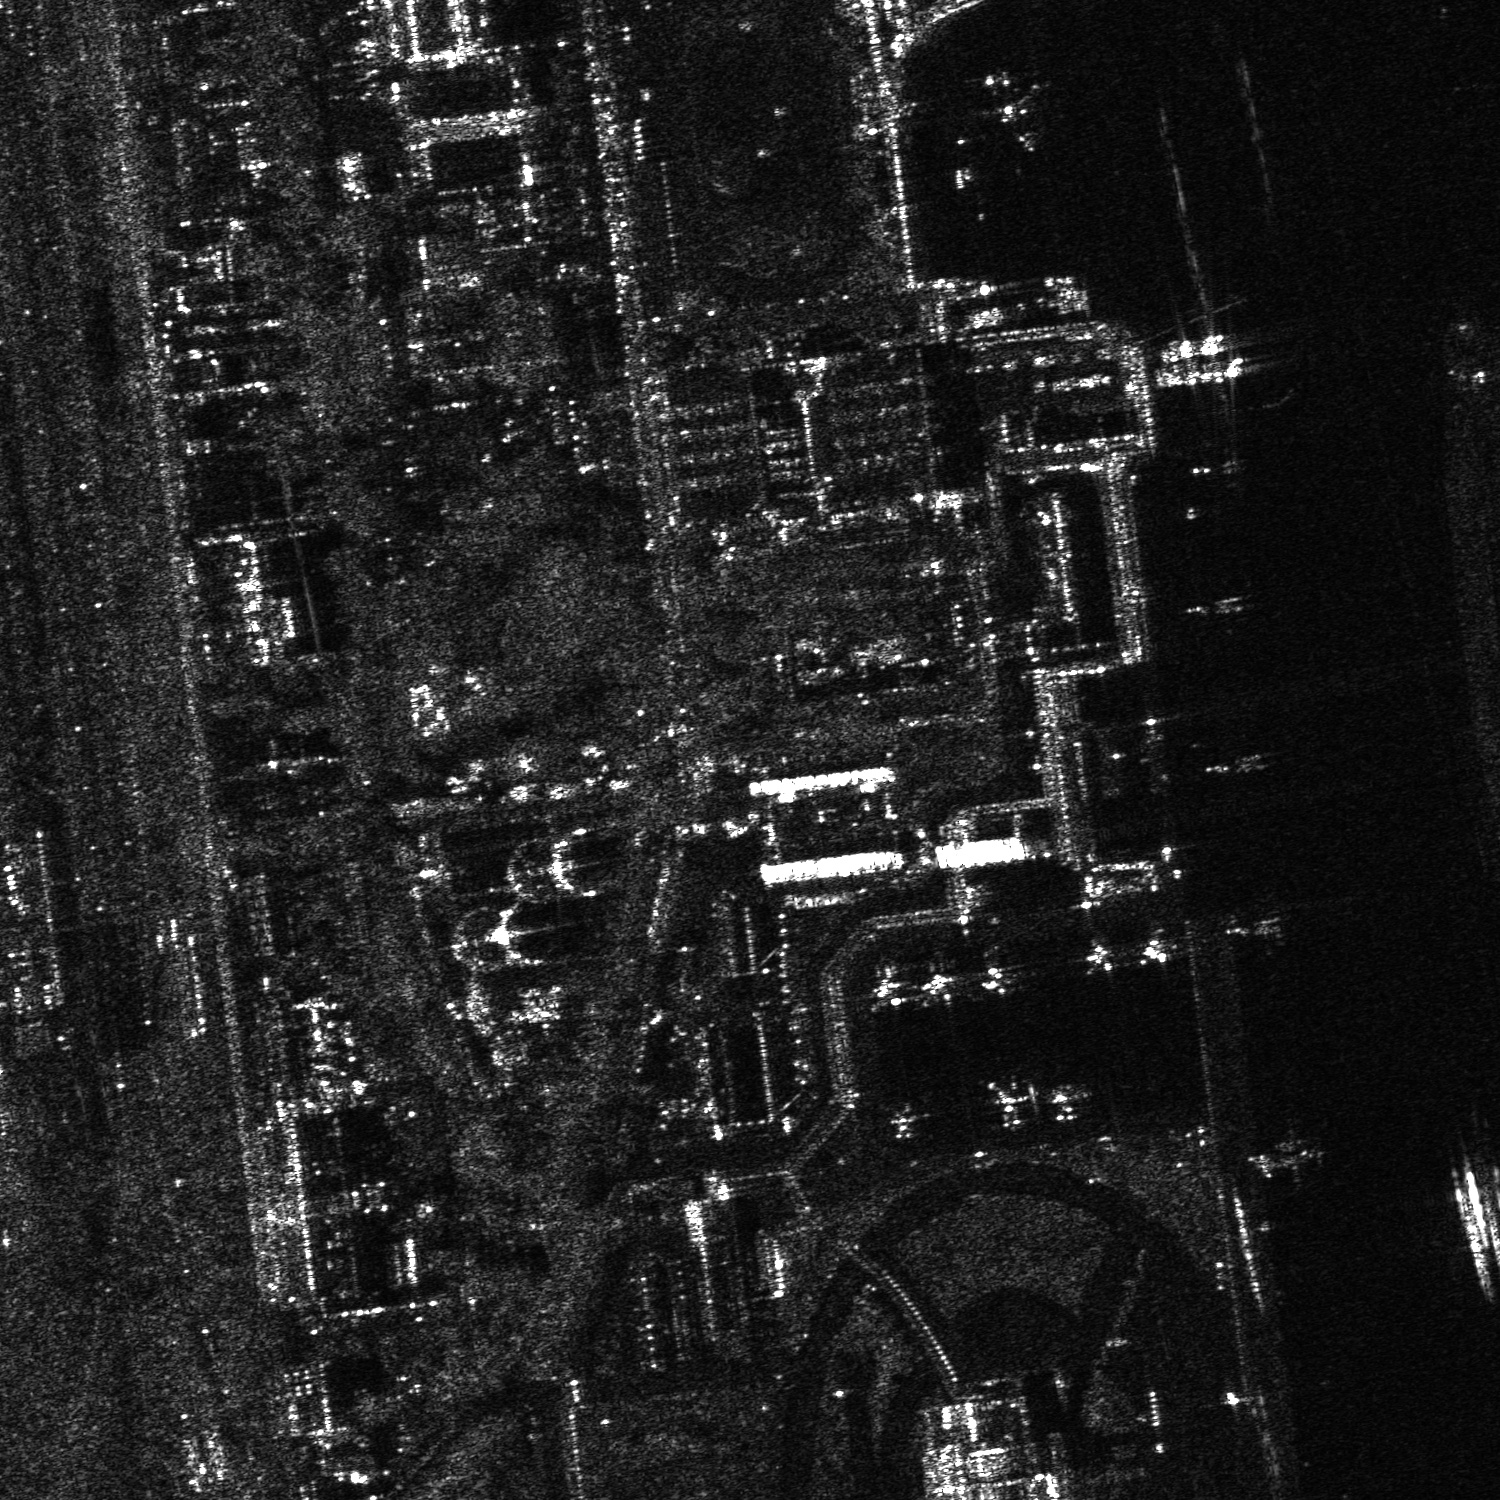Boeing787: (957, 59, 1049, 154)
other: (986, 1077, 1030, 1128), (864, 968, 907, 1008), (1043, 1080, 1080, 1125), (977, 960, 1012, 996), (886, 1102, 920, 1139), (1082, 940, 1115, 973), (920, 968, 955, 999), (1139, 934, 1168, 964)
